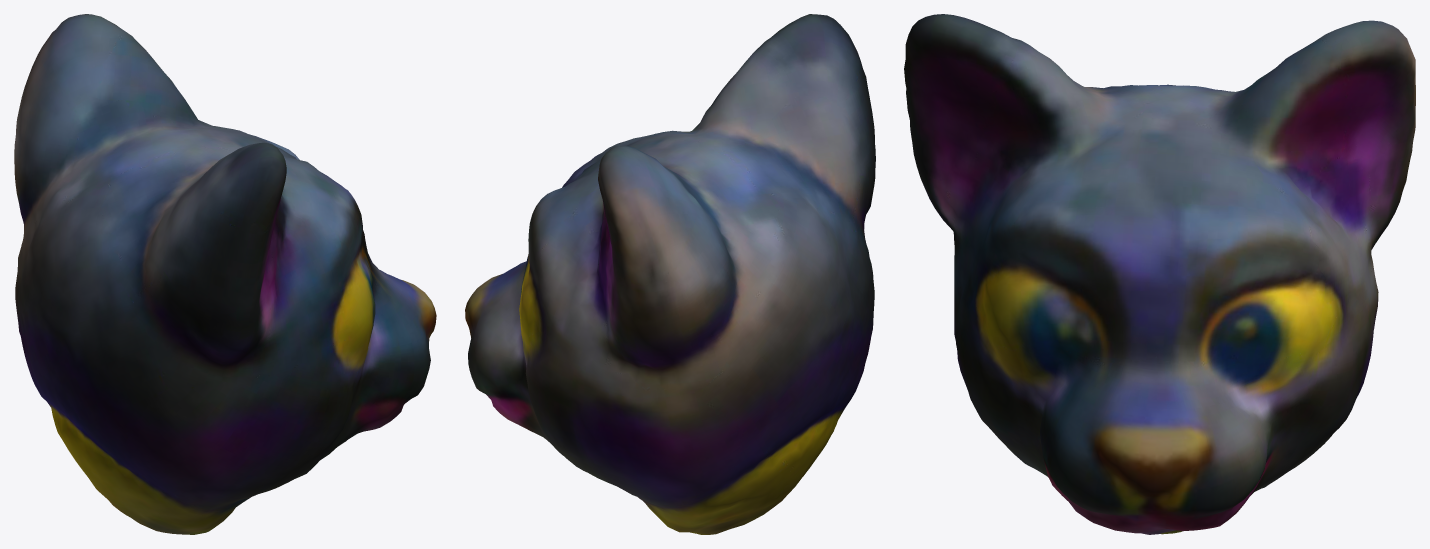
Rendered from Create_cat_with_Square_face_with_strong_jawline_close_set_e_0614154841_preview.obj.
3 renders of one model, left to right at view 1: azimuth 30°, elevation 25°; view 2: azimuth 150°, elevation 25°; view 3: azimuth 270°, elevation 25°, orthographic. The views are drawn at different scales.
Visible parts, largest first — view 1: Mesh1; view 2: Mesh1; view 3: Mesh1.
Boxes of the visible parts, x1,y1,x2,y2 form: Mesh1: (14, 14, 436, 534); Mesh1: (465, 14, 875, 534); Mesh1: (904, 14, 1415, 534).
Size of the model in its own units: 1.05 by 1.2 by 1.1.
1 material, 1 textured.
